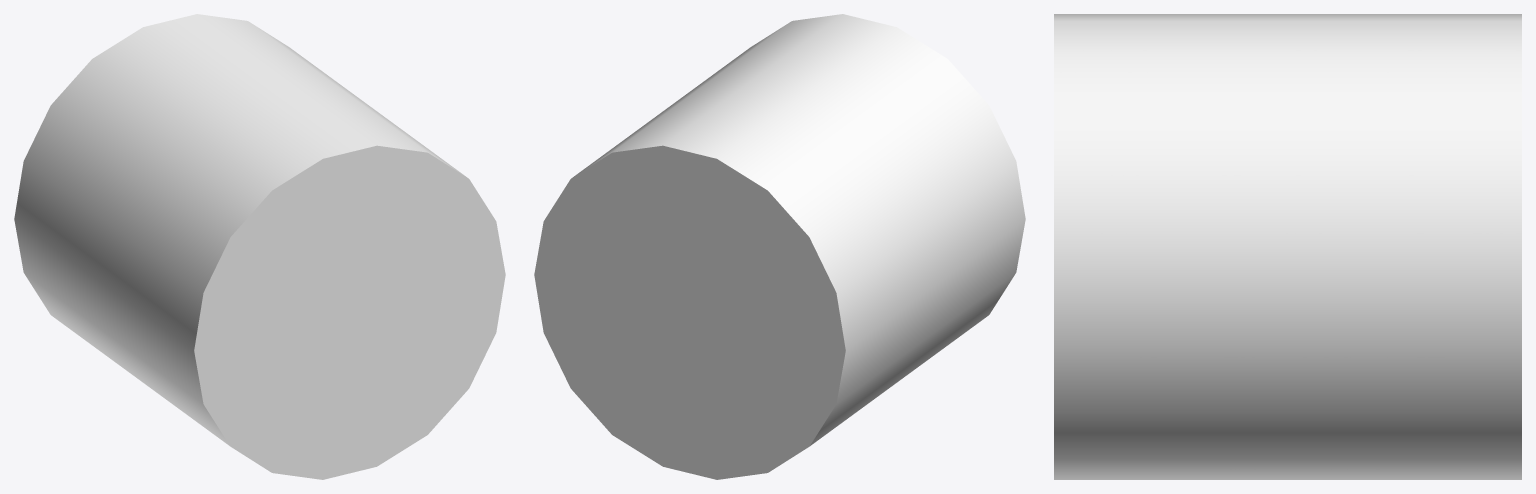
File: laser.FBX
3 views of the same model, side by side, from view 1: azimuth 30°, elevation 25°; view 2: azimuth 150°, elevation 25°; view 3: azimuth 270°, elevation 25° (orthographic). The views are drawn at different scales.
Parts seen in each view (by area): view 1: Cylindre01; view 2: Cylindre01; view 3: Cylindre01.
Boxes of the visible parts, x1,y1,x2,y2 form: Cylindre01: [14, 14, 505, 479]; Cylindre01: [534, 14, 1025, 479]; Cylindre01: [1054, 14, 1521, 479].
Size of the model in its own units: 3.94 by 3.88 by 3.94.
1 material, 1 textured.
